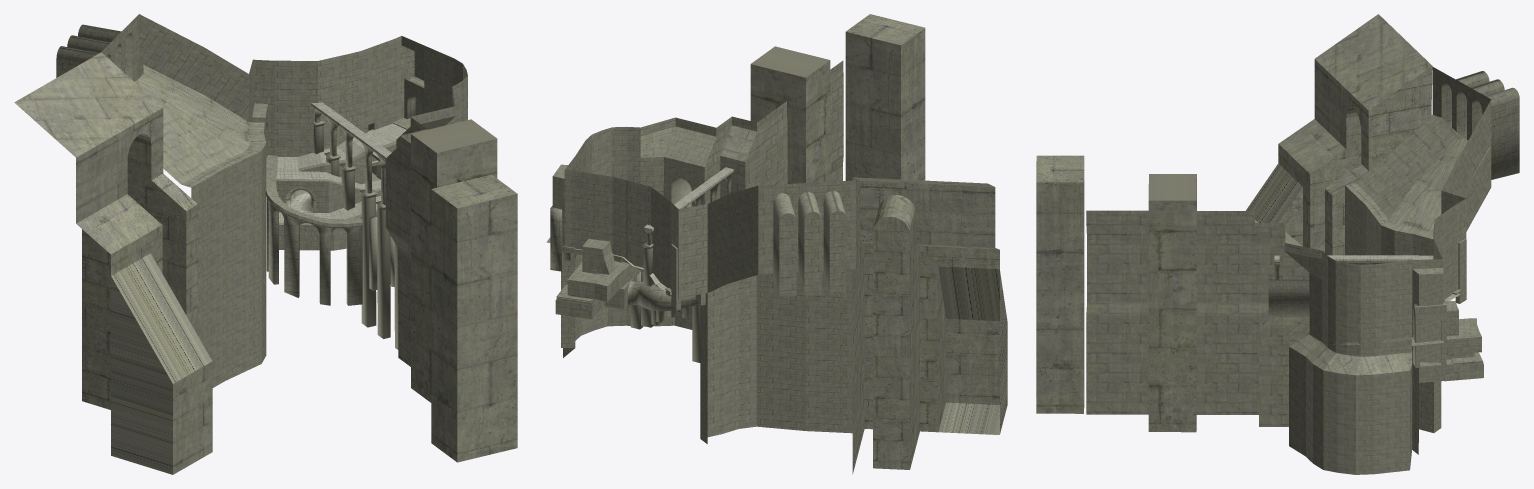
Rendered from SM_Bergstadt_Block_00.fbx.
The picture shows the model from 3 angles, left to right: view 1: azimuth 30°, elevation 25°; view 2: azimuth 150°, elevation 25°; view 3: azimuth 270°, elevation 25°; orthographic projection. The views are drawn at different scales.
Parts seen in each view (by area): view 1: SM_Bergstadt_Block_00; view 2: SM_Bergstadt_Block_00; view 3: SM_Bergstadt_Block_00.
Boxes of the visible parts, x1,y1,x2,y2 form: SM_Bergstadt_Block_00: [14, 14, 517, 474]; SM_Bergstadt_Block_00: [547, 14, 1007, 474]; SM_Bergstadt_Block_00: [1036, 14, 1519, 474].
Bounding box in the file's own units: 11747 × 8002 × 11914.
